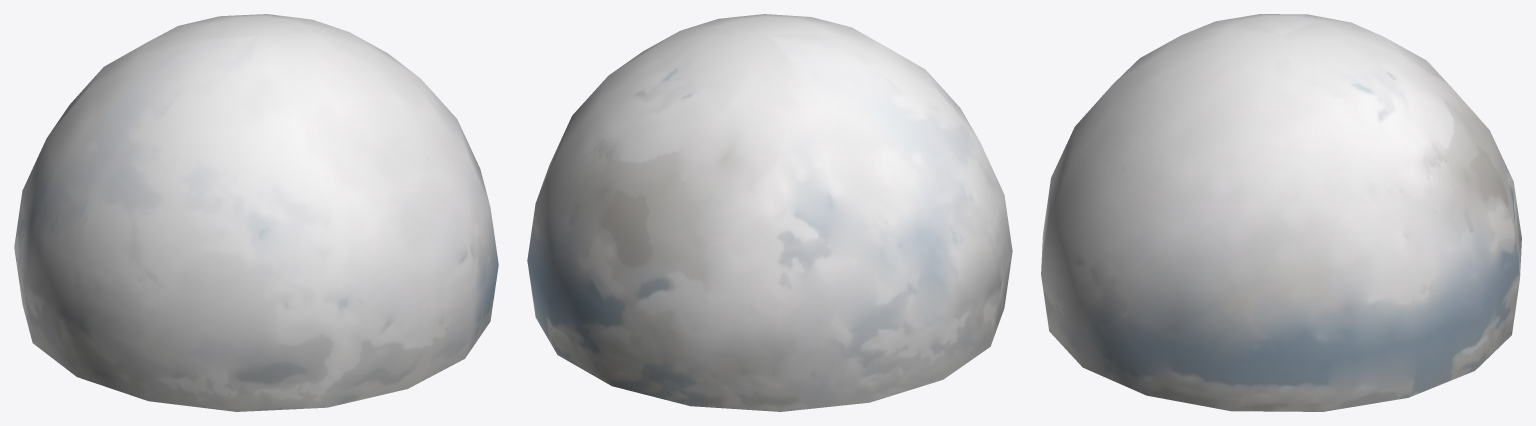
The model's file is Stage00_sky.fbx.
3 views of the same model, side by side, from view 1: azimuth 30°, elevation 25°; view 2: azimuth 150°, elevation 25°; view 3: azimuth 270°, elevation 25° (orthographic).
Visible parts, largest first — view 1: Sky2; view 2: Sky2; view 3: Sky2.
Boxes of the visible parts, x1=… form: Sky2: x1=14, y1=14, x2=498, y2=411; Sky2: x1=527, y1=14, x2=1012, y2=411; Sky2: x1=1041, y1=14, x2=1521, y2=411.
Size of the model in its own units: 20384 by 13032 by 20384.
Materials: 1 (1 with a texture image).
